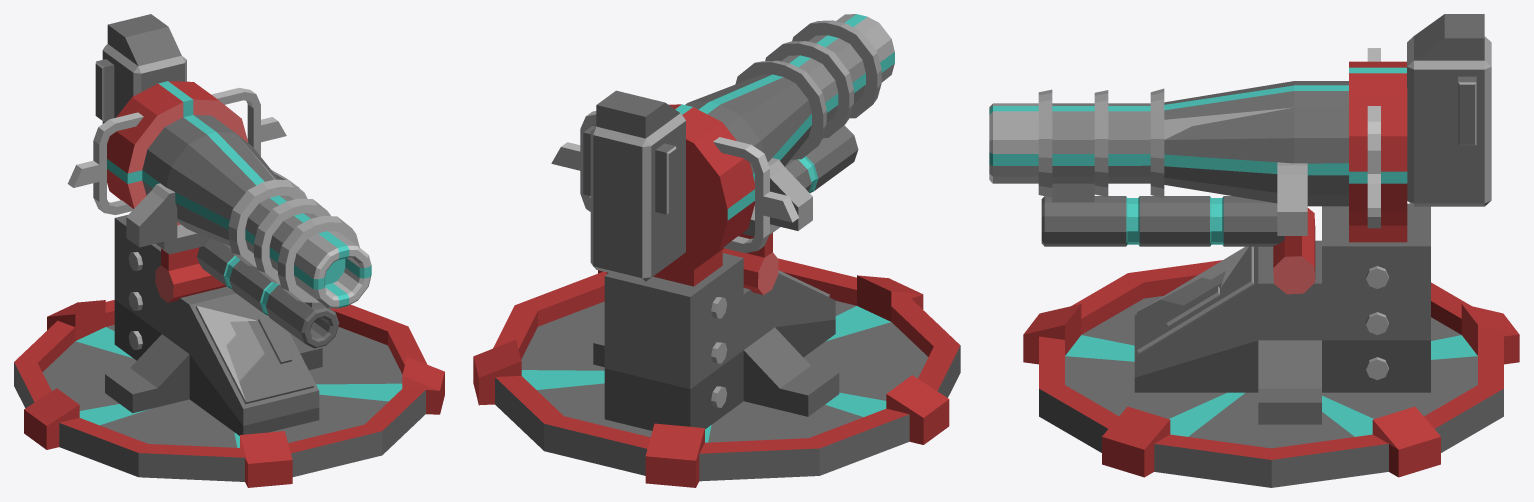
Rendered from tower_laser_red_3.fbx.
3 views of the same model, side by side, from view 1: azimuth 30°, elevation 25°; view 2: azimuth 150°, elevation 25°; view 3: azimuth 270°, elevation 25° (orthographic). The views are drawn at different scales.
Visible parts, largest first — view 1: top_laser_red_3, tower_laser_red_3; view 2: top_laser_red_3, tower_laser_red_3; view 3: top_laser_red_3, tower_laser_red_3.
Boxes of the visible parts, left/top/right/bottom form: top_laser_red_3: left=67, top=14, right=371, bottom=435; tower_laser_red_3: left=14, top=300, right=444, bottom=487; top_laser_red_3: left=551, top=14, right=894, bottom=430; tower_laser_red_3: left=473, top=258, right=960, bottom=487; top_laser_red_3: left=989, top=14, right=1491, bottom=424; tower_laser_red_3: left=1023, top=260, right=1519, bottom=487.
Bounding box in the file's own units: 147 × 117 × 157.
